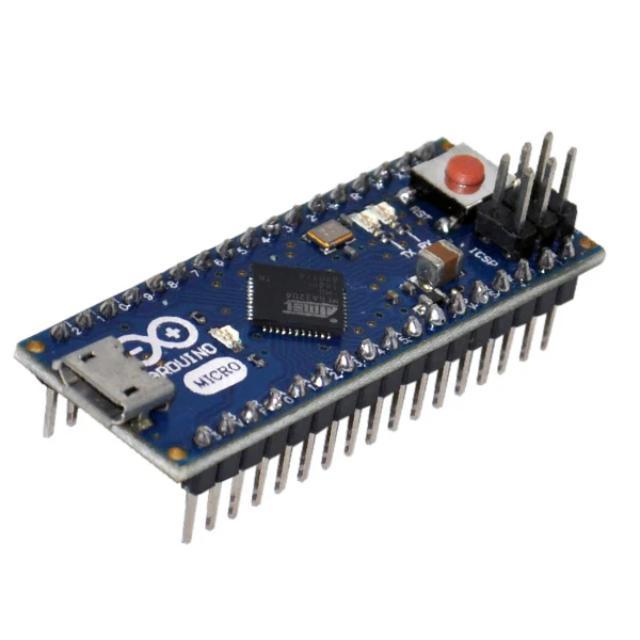Arduino-Micro: (17, 135, 605, 538)
